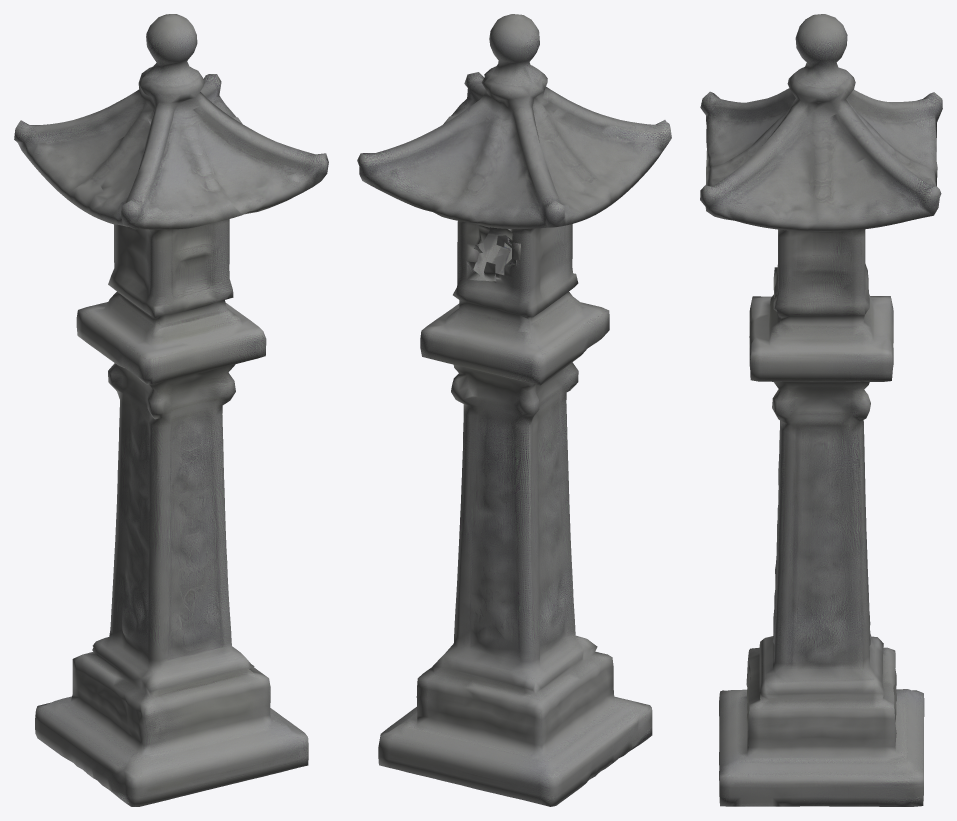
Rendered from lantern.glb.
The picture shows the model from 3 angles, left to right: view 1: azimuth 30°, elevation 25°; view 2: azimuth 150°, elevation 25°; view 3: azimuth 270°, elevation 25°; orthographic projection.
Bounding box in the file's own units: 0.5648 × 1.91 × 0.5616.
1 material, 1 textured.
